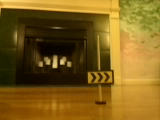right: (87, 71, 113, 82)
